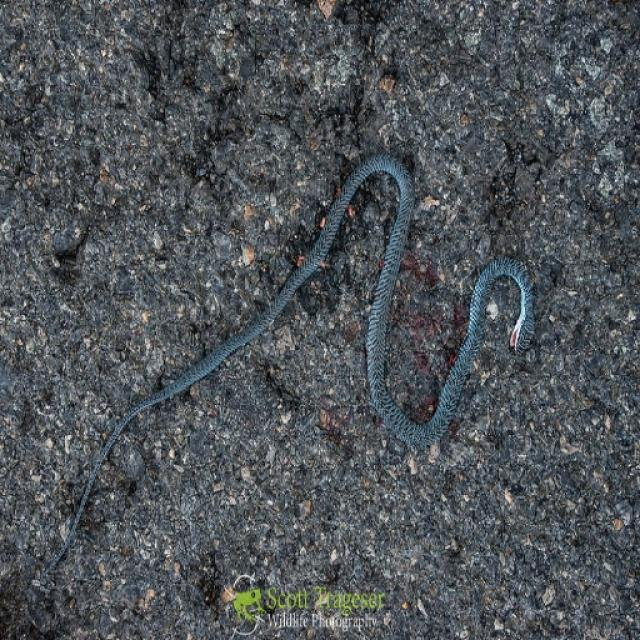snake: (61, 125, 558, 537)
